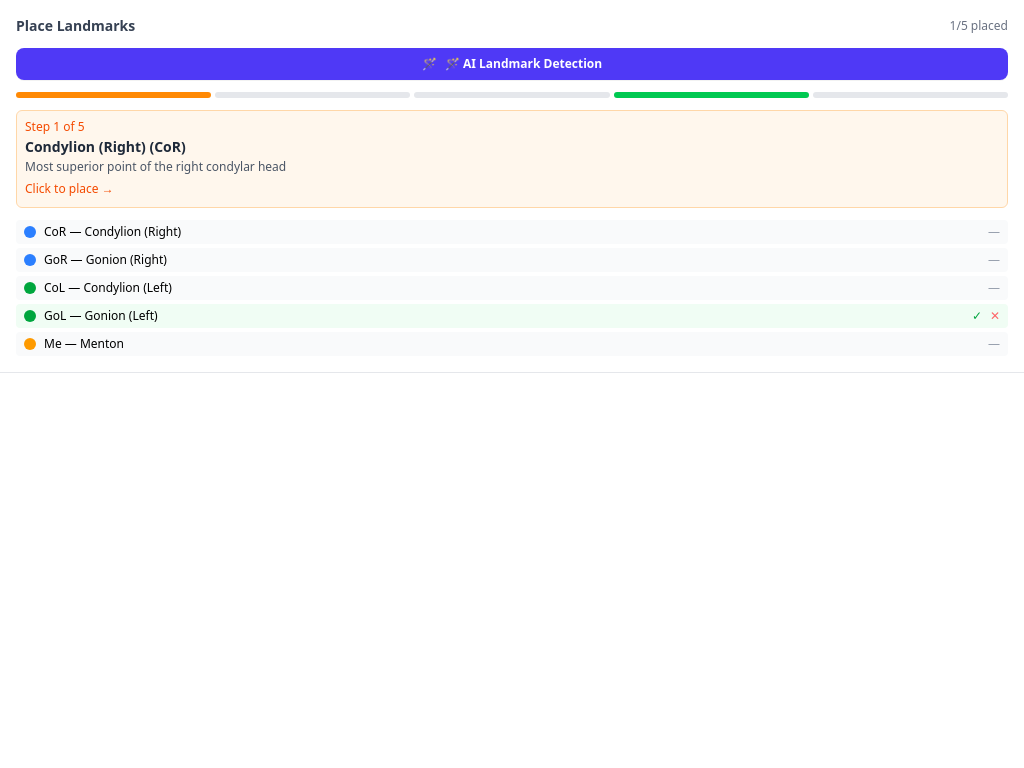
Test: Phase 2 — Topbar Controls Refactoring (Reset View & AI Landmark Detection) › shows overwrite confirmation modal in LandmarkPalette as well
What coordinates should you click on to do the following:
click the button "🪄 🪄 AI Landmark Detection"
I would click on:
 (512, 64)
Its box is top-left (16, 48), bottom-right (1008, 80).
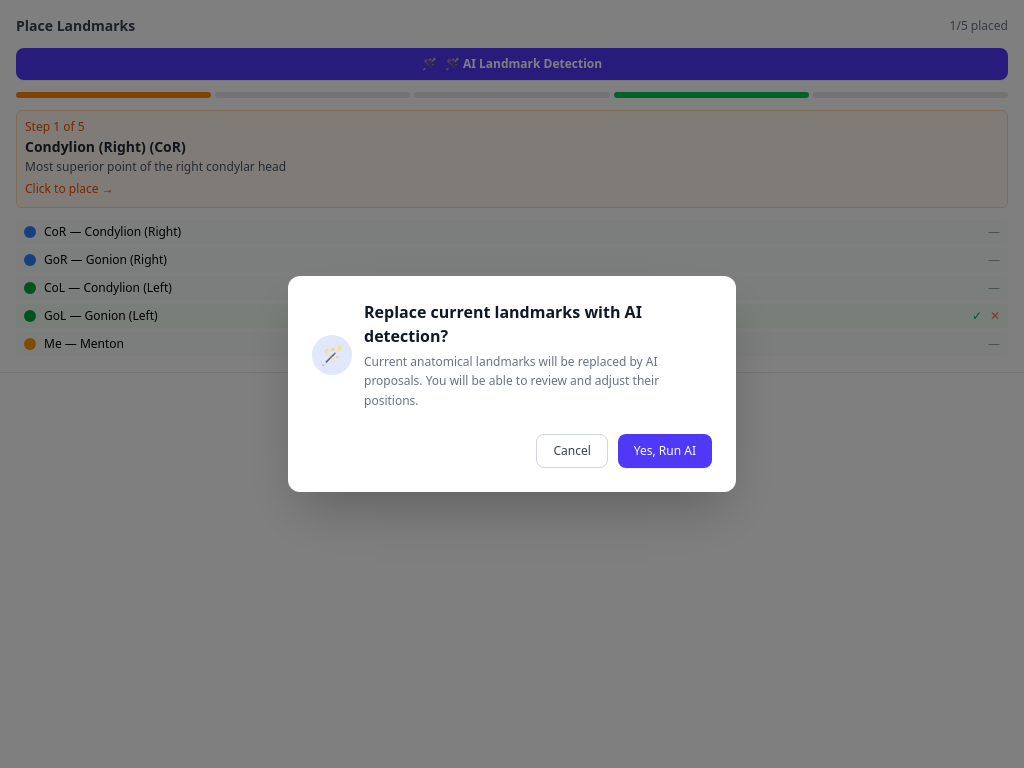
Expected: the heading "Replace current landmarks with AI detection?" is shown, top-left (364, 301), bottom-right (642, 347)
Expected: the button "Yes, Run AI" is shown, top-left (618, 434), bottom-right (712, 468)
